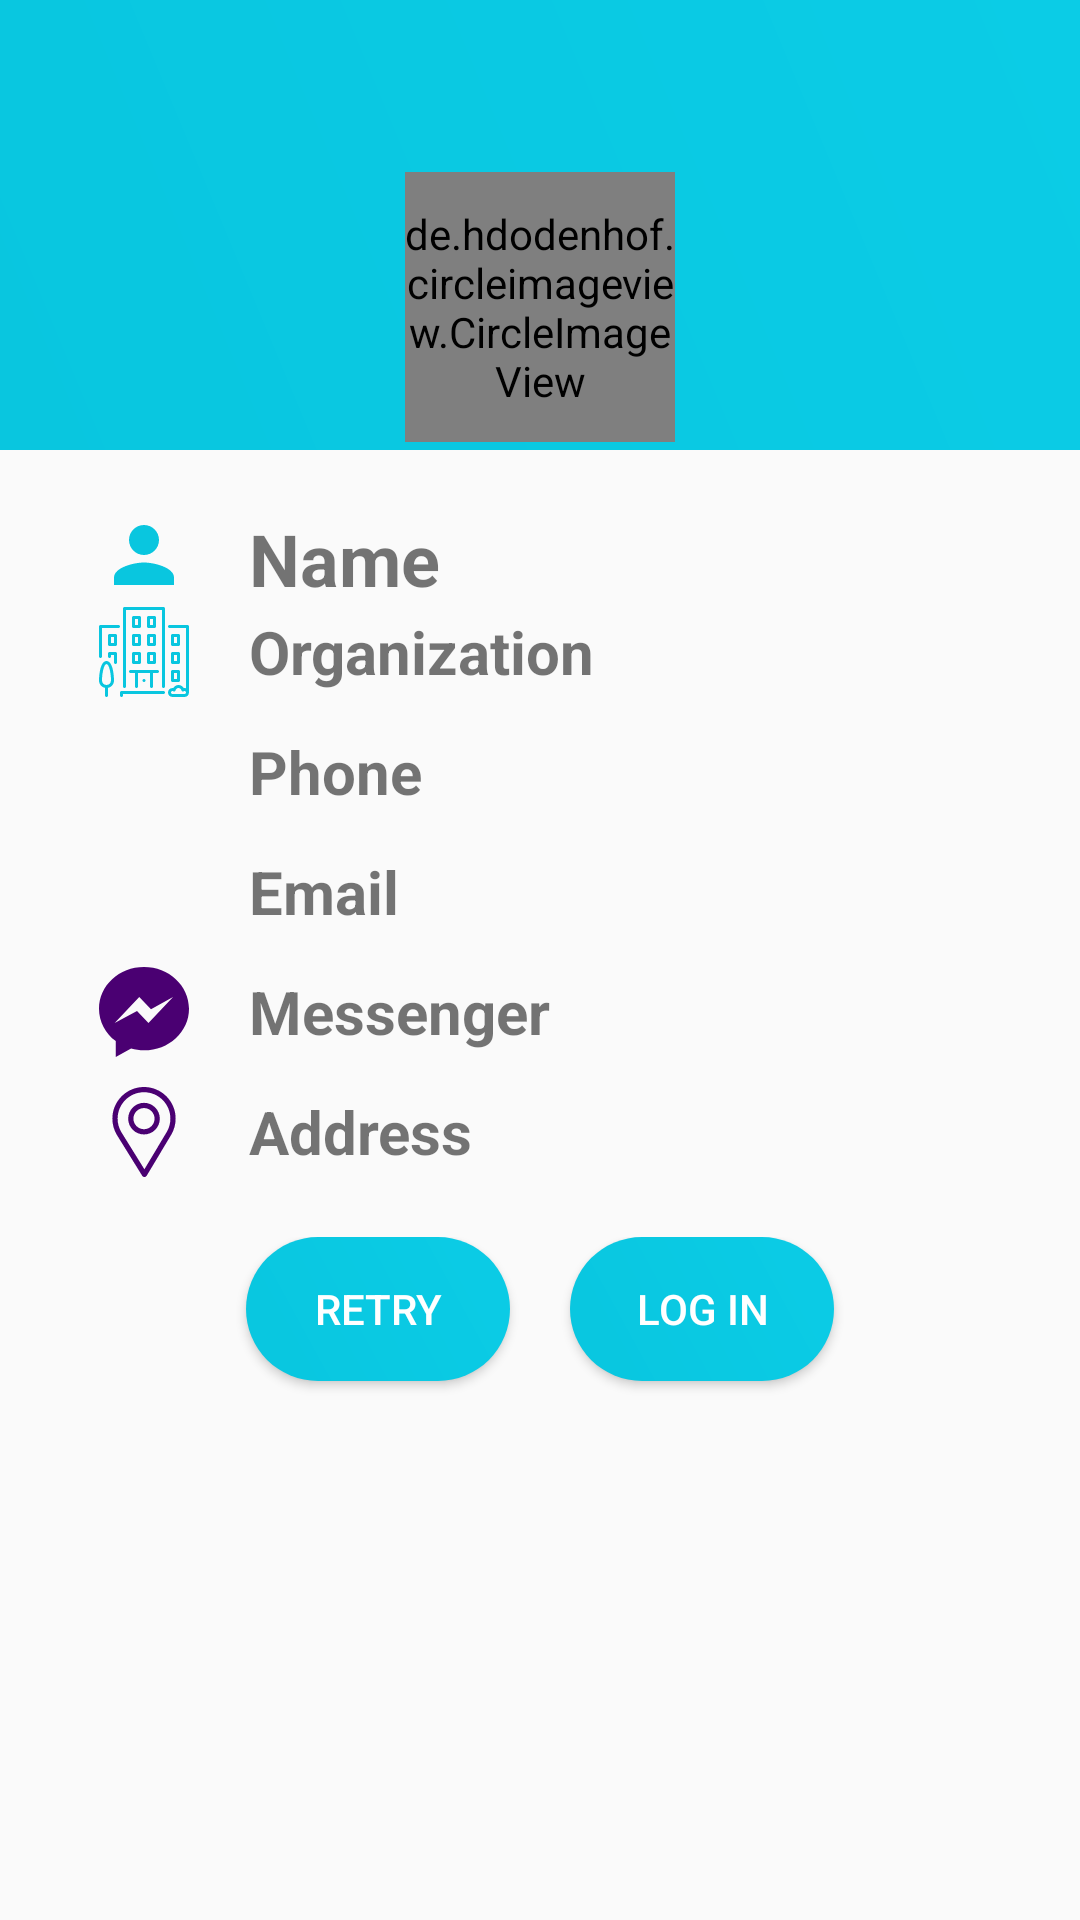

Where icons sit on this 1080 x 1920 app screen, as (x1, y1, x2, y2):
location: (112, 1087, 176, 1177)
user: (114, 525, 174, 585)
